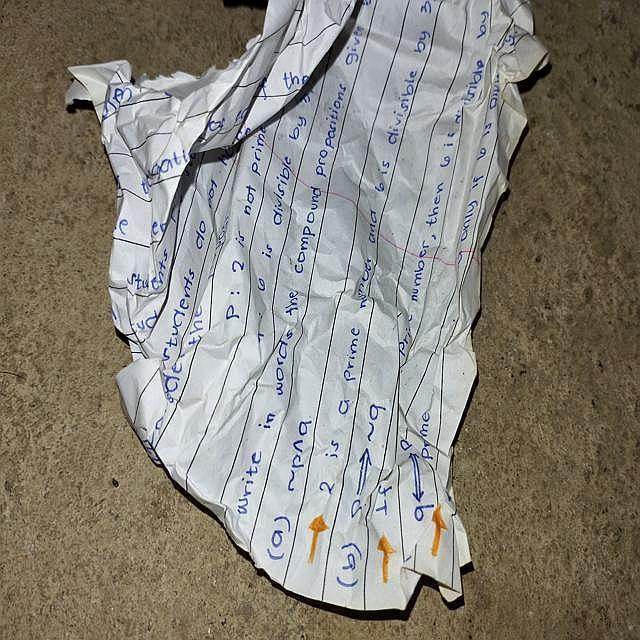Biodegradable: (99, 1, 535, 615)
